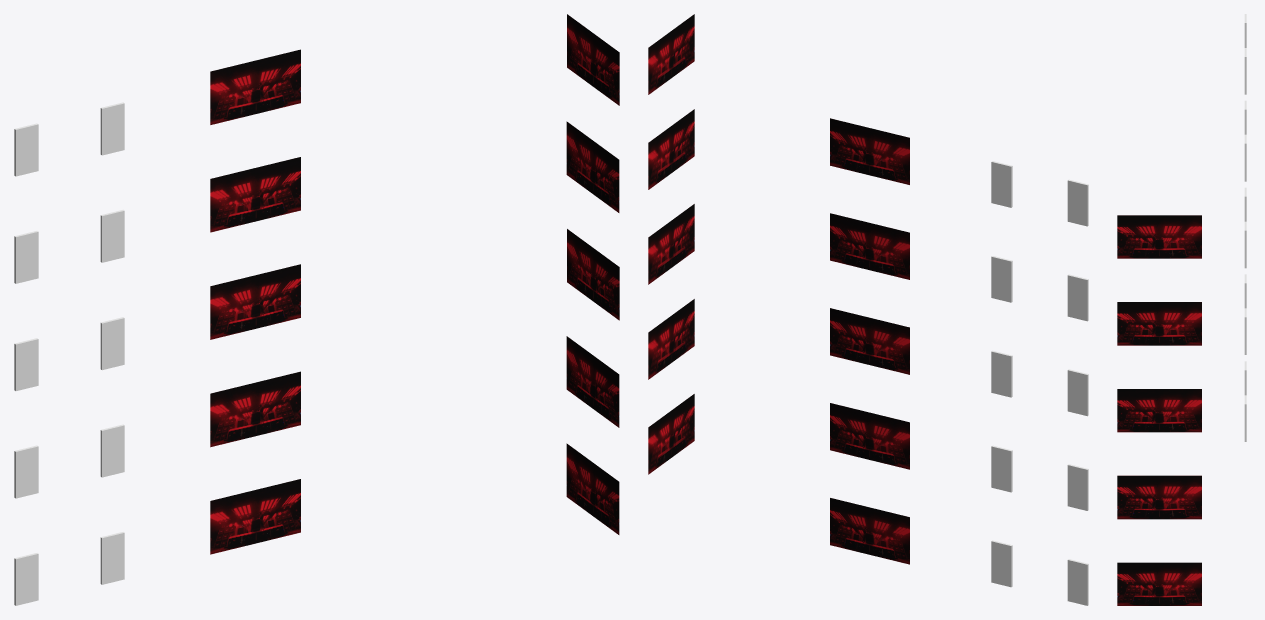
The model's file is PantallasAds_Twitch.glb.
3 renders of one model, left to right at view 1: azimuth 30°, elevation 25°; view 2: azimuth 150°, elevation 25°; view 3: azimuth 270°, elevation 25°, orthographic. The views are drawn at different scales.
Visible parts, largest first — view 1: Object_324, Object_298, Object_376, Object_297, Object_350, Object_469, Object_483, Object_517, Object_325, Object_377, Object_10, Object_10.003 (+8 smaller); view 2: Object_297, Object_324, Object_376, Object_298, Object_350, Object_517, Object_325, Object_377, Object_483, Object_469, Object_10.002, Object_11.004 (+8 smaller); view 3: Object_483, Object_325, Object_377, Object_469, Object_517.
Part boxes in pixels (x1,y1,x2,y2): Object_324: [210, 264, 300, 339]; Object_298: [210, 371, 300, 447]; Object_376: [210, 49, 300, 124]; Object_297: [210, 479, 300, 554]; Object_350: [210, 157, 300, 232]; Object_469: [566, 443, 619, 534]; Object_483: [566, 336, 619, 427]; Object_517: [566, 121, 619, 212]; Object_325: [567, 229, 619, 320]; Object_377: [567, 14, 619, 105]; Object_10: [14, 445, 38, 498]; Object_10.003: [14, 123, 38, 176]; Object_297: [830, 498, 909, 564]; Object_324: [830, 308, 909, 374]; Object_376: [830, 118, 909, 184]; Object_298: [830, 403, 909, 469]; Object_350: [830, 213, 909, 279]; Object_517: [648, 109, 694, 189]; Object_325: [648, 204, 694, 284]; Object_377: [648, 14, 694, 94]; Object_483: [648, 299, 694, 379]; Object_469: [648, 394, 694, 474]; Object_10.002: [1067, 274, 1088, 321]; Object_11.004: [991, 540, 1012, 587]; Object_483: [1117, 475, 1201, 519]; Object_325: [1117, 389, 1201, 432]; Object_377: [1117, 215, 1201, 258]; Object_469: [1117, 562, 1201, 605]; Object_517: [1117, 302, 1201, 345].
Size of the model in its own units: 51.17 by 45.01 by 13.95.
2 materials, 1 textured.
